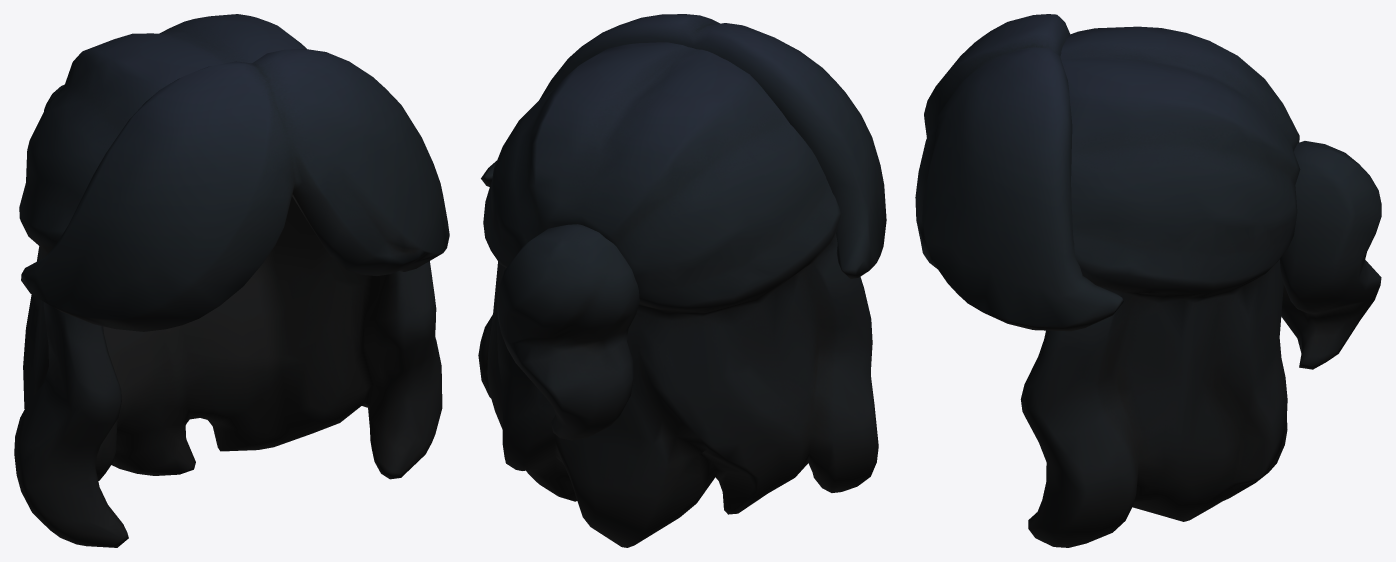
The model's file is SM_HAIR_LongWavy.fbx.
3 renders of one model, left to right at view 1: azimuth 30°, elevation 25°; view 2: azimuth 150°, elevation 25°; view 3: azimuth 270°, elevation 25°, orthographic. The views are drawn at different scales.
Visible parts, largest first — view 1: HAIR_LongWavy; view 2: HAIR_LongWavy; view 3: HAIR_LongWavy.
Part boxes in pixels (x1,y1,x2,y2): HAIR_LongWavy: (14,14,449,547); HAIR_LongWavy: (478,14,886,547); HAIR_LongWavy: (915,14,1381,547).
Size of the model in its own units: 77.27 by 85.21 by 77.96.
Materials: 1 (1 with a texture image).
